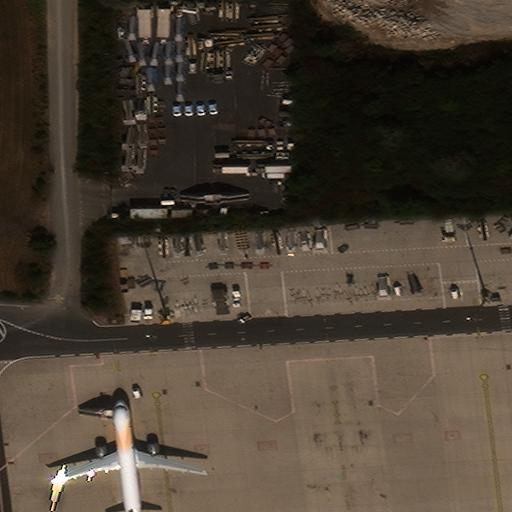Medium Civil Transport: (51, 399, 205, 511)
